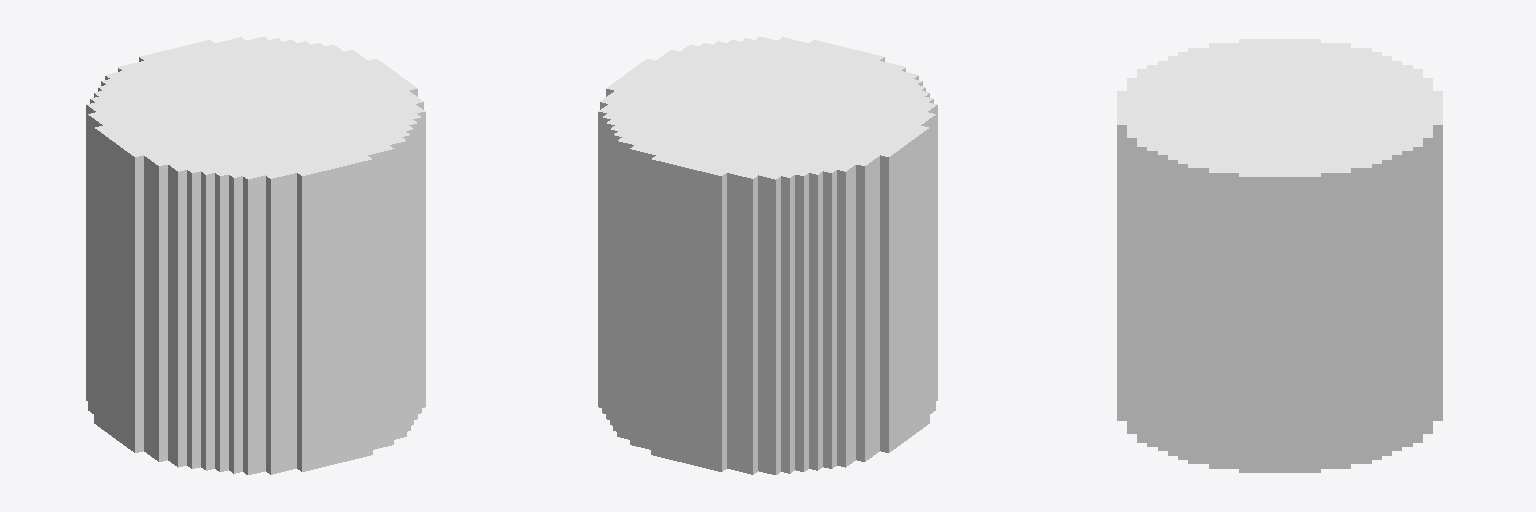
The model's file is body-cooked-rare.obj.
3 renders of one model, left to right at view 1: azimuth 30°, elevation 25°; view 2: azimuth 150°, elevation 25°; view 3: azimuth 270°, elevation 25°, orthographic.
Visible parts, largest first — view 1: object 1; view 2: object 1; view 3: object 1.
Part boxes in pixels (left/top/right/bottom): object 1: left=86, top=37, right=425, bottom=474; object 1: left=598, top=37, right=937, bottom=474; object 1: left=1117, top=39, right=1442, bottom=472.
Size of the model in its own units: 3.2 by 3.2 by 3.2.